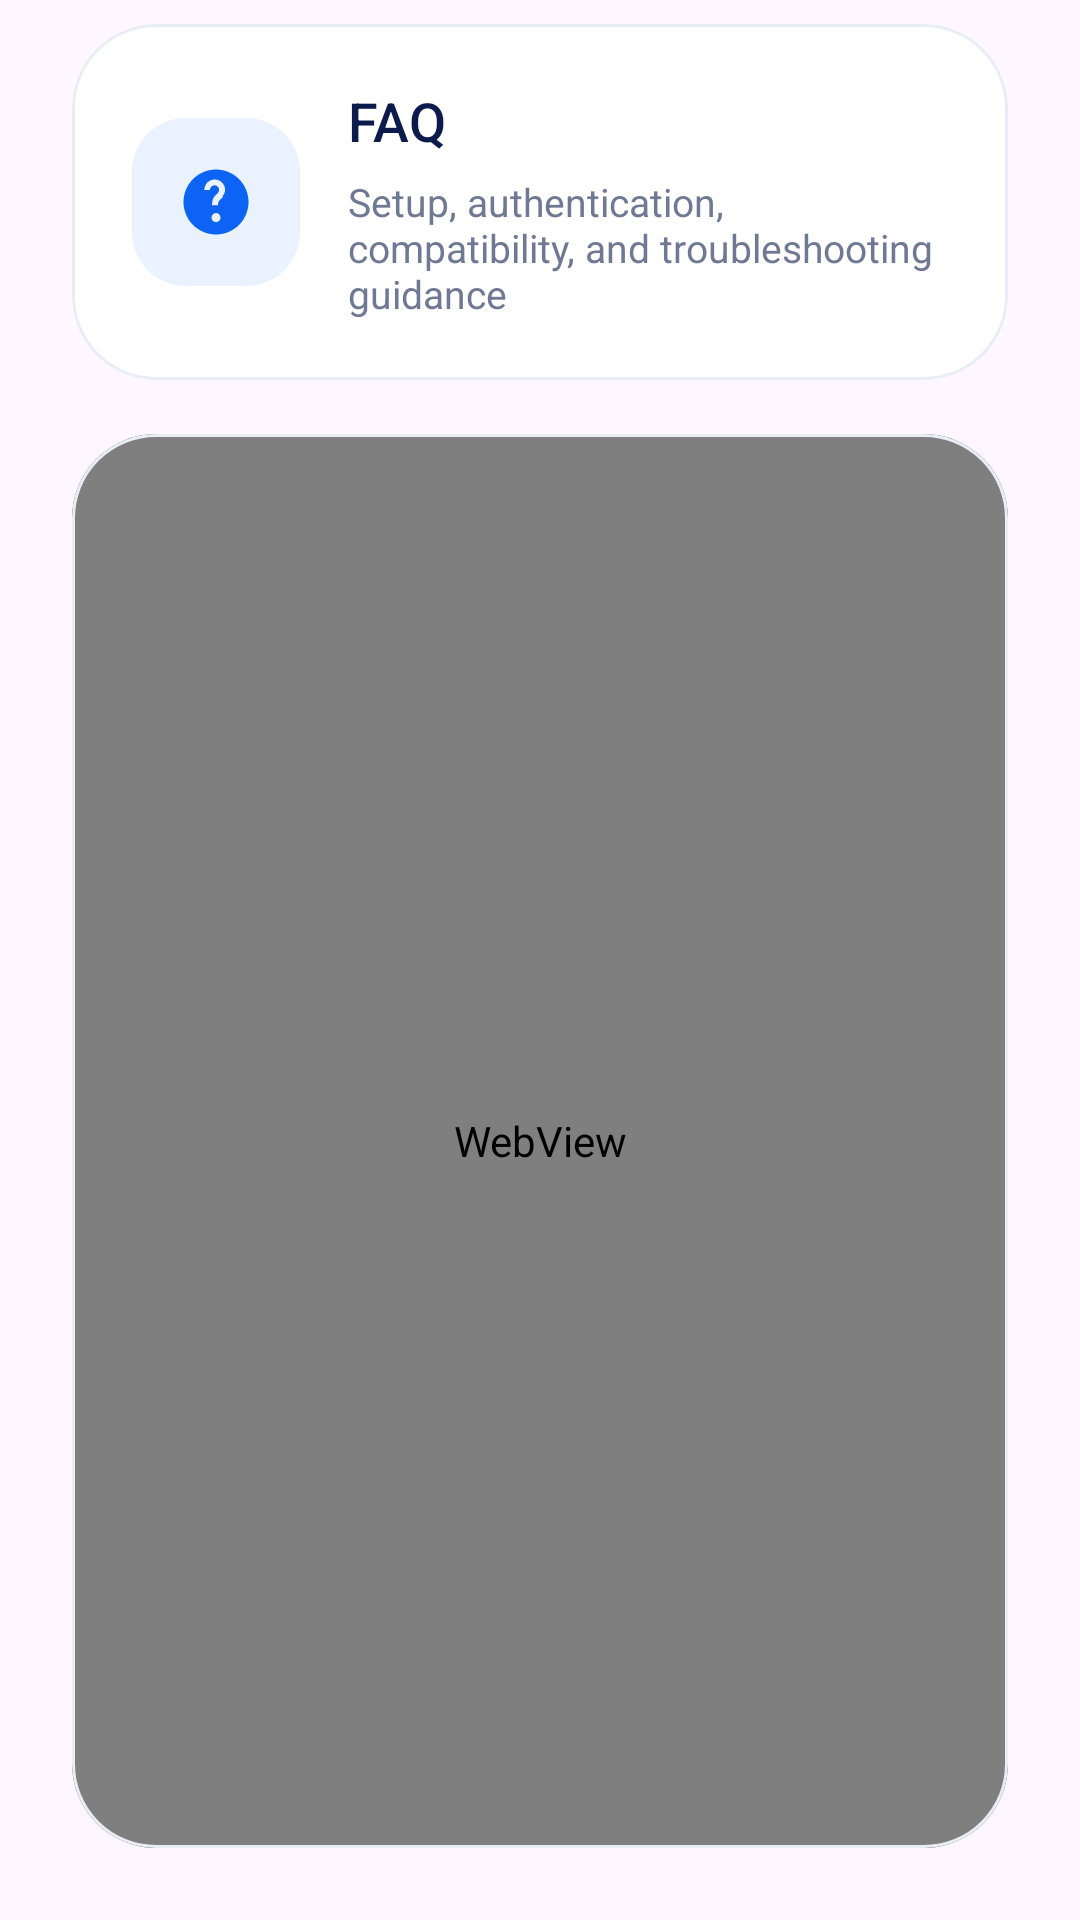

Screen size 1080*1920. Icon name, then its box in pixels as rect(x1, y1, x2, y2):
oc help circle: rect(183, 169, 249, 235)
